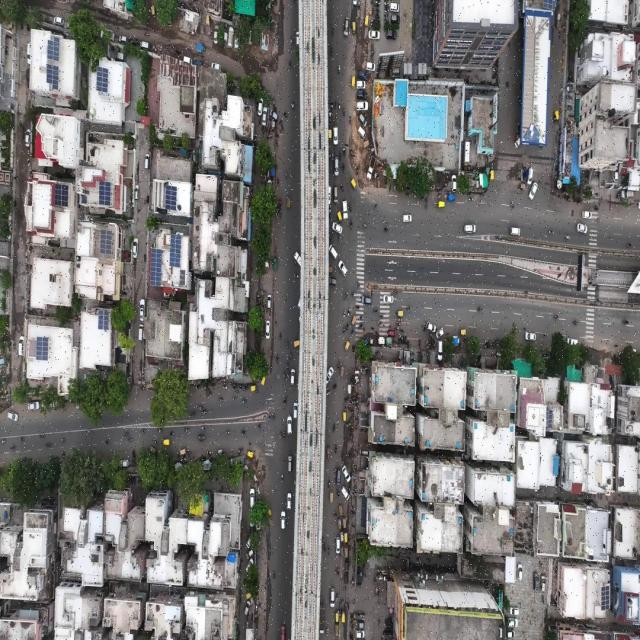3W: (552, 103, 560, 125), (159, 434, 170, 449), (260, 375, 269, 393), (326, 490, 334, 510), (336, 208, 344, 225), (342, 570, 349, 589), (292, 336, 299, 355), (196, 431, 208, 442), (342, 562, 351, 576), (332, 622, 339, 640), (178, 446, 188, 458), (350, 175, 357, 192), (340, 609, 347, 626), (489, 168, 496, 184), (395, 308, 405, 319), (249, 382, 258, 394), (350, 313, 357, 328), (338, 502, 345, 517), (438, 199, 447, 210), (334, 610, 340, 625), (247, 446, 255, 457), (343, 338, 349, 352), (344, 545, 350, 559), (343, 533, 349, 546), (459, 325, 466, 336), (342, 409, 347, 424), (339, 365, 344, 378), (343, 516, 347, 530), (327, 446, 331, 459)
Cars: (286, 484, 296, 514), (226, 24, 236, 54), (526, 181, 538, 202), (284, 448, 294, 473), (437, 337, 446, 362), (344, 11, 351, 43), (368, 28, 384, 42), (256, 91, 264, 119), (112, 46, 126, 62), (532, 570, 541, 594), (54, 12, 66, 30), (574, 220, 588, 235), (461, 222, 476, 236), (212, 24, 222, 45), (285, 409, 293, 435), (522, 331, 538, 344), (292, 27, 300, 53), (209, 58, 222, 74), (291, 399, 300, 422), (327, 362, 336, 384), (359, 112, 370, 130), (539, 568, 546, 596), (381, 291, 394, 306), (328, 243, 339, 260), (353, 88, 370, 99), (118, 456, 131, 470), (330, 220, 343, 234), (356, 98, 370, 111), (342, 464, 351, 484), (130, 235, 138, 257), (292, 244, 300, 266), (338, 260, 349, 276), (18, 333, 24, 362), (278, 621, 287, 640), (357, 122, 366, 141), (192, 51, 201, 70), (389, 0, 401, 14), (358, 67, 370, 81), (360, 291, 371, 306), (335, 466, 342, 489), (390, 14, 406, 24), (6, 410, 19, 422), (509, 223, 521, 236), (127, 34, 139, 47), (516, 562, 523, 584), (581, 208, 592, 222), (333, 184, 340, 206), (138, 40, 152, 51), (246, 556, 254, 575), (269, 108, 279, 123), (137, 323, 144, 344), (243, 598, 251, 616), (509, 604, 521, 616), (566, 335, 578, 347), (181, 52, 193, 64), (25, 66, 31, 90), (353, 618, 366, 629), (139, 297, 144, 325), (266, 292, 273, 312), (426, 320, 436, 334), (356, 77, 366, 91), (266, 319, 272, 342), (290, 364, 296, 387), (281, 508, 287, 531), (249, 483, 255, 506), (400, 212, 412, 223), (330, 586, 335, 612), (330, 274, 338, 290), (335, 536, 341, 557), (117, 34, 128, 45), (24, 402, 39, 410), (507, 618, 519, 628), (434, 326, 444, 338), (25, 126, 30, 150), (144, 153, 150, 173), (342, 488, 351, 501), (451, 174, 457, 193), (272, 255, 279, 271), (25, 42, 30, 64), (134, 184, 140, 202), (261, 106, 266, 127), (356, 629, 366, 639), (366, 63, 376, 73), (386, 30, 397, 39), (528, 166, 533, 185), (507, 629, 515, 640), (246, 535, 252, 549), (246, 548, 253, 560)
LCV: (366, 155, 376, 181), (275, 197, 283, 220), (513, 135, 522, 153), (285, 193, 292, 216), (447, 192, 456, 202)
M2W: (281, 162, 291, 185), (330, 22, 338, 45), (474, 302, 485, 317), (355, 318, 365, 334), (332, 440, 341, 457), (353, 276, 362, 292), (335, 60, 342, 79), (347, 200, 355, 216), (340, 162, 348, 178), (239, 398, 248, 412), (562, 233, 573, 244), (218, 396, 228, 408), (283, 336, 291, 351), (553, 310, 562, 323), (360, 220, 369, 233), (201, 408, 209, 422), (200, 421, 208, 435), (274, 351, 281, 367), (368, 320, 378, 331), (103, 435, 112, 447), (331, 419, 337, 437), (508, 198, 517, 210), (369, 201, 378, 213), (596, 212, 605, 224), (0, 435, 8, 448), (569, 319, 579, 329), (341, 307, 348, 321), (344, 290, 351, 304), (349, 216, 356, 230), (549, 228, 556, 242), (382, 221, 390, 233), (240, 424, 247, 437), (339, 324, 346, 337), (156, 426, 165, 436), (18, 434, 25, 446), (39, 430, 46, 442), (85, 426, 92, 438), (282, 394, 288, 408), (324, 626, 330, 640), (339, 181, 345, 195), (406, 302, 412, 316), (288, 34, 294, 48), (151, 436, 160, 445), (625, 240, 634, 249), (196, 402, 204, 412), (329, 44, 334, 60), (378, 312, 386, 322), (288, 56, 293, 72), (351, 290, 357, 303), (168, 430, 175, 441), (183, 425, 190, 436), (340, 592, 345, 607), (342, 105, 347, 120), (337, 99, 342, 114), (126, 435, 134, 444), (232, 392, 238, 404), (293, 268, 299, 280), (226, 427, 233, 437), (334, 590, 339, 604), (337, 148, 342, 162), (59, 448, 65, 459), (222, 381, 228, 392), (277, 430, 282, 443), (121, 430, 129, 438), (346, 302, 350, 318), (467, 195, 475, 203), (10, 443, 17, 452), (346, 318, 350, 333), (358, 312, 363, 324), (323, 542, 328, 554), (377, 316, 382, 328), (283, 109, 288, 121), (327, 544, 331, 558), (285, 360, 290, 371), (288, 351, 293, 362), (373, 307, 378, 318), (140, 428, 146, 437), (257, 423, 263, 432), (342, 147, 346, 160), (281, 469, 284, 486), (58, 437, 66, 443), (190, 411, 196, 419), (282, 369, 286, 381), (355, 304, 361, 312), (327, 478, 331, 490), (46, 441, 51, 450), (278, 333, 283, 342), (291, 100, 294, 114), (321, 532, 324, 544), (288, 369, 290, 383)
